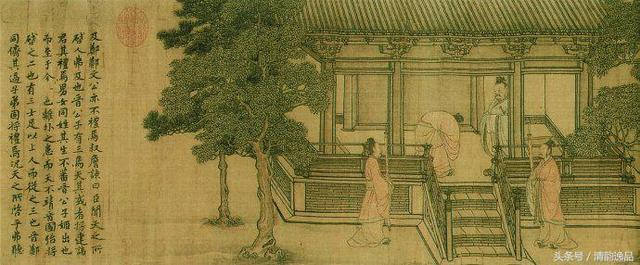booth: (280, 2, 640, 258)
man: (526, 135, 585, 251), (346, 136, 401, 249), (482, 74, 518, 177), (416, 106, 467, 178)
tree: (145, 1, 326, 261), (568, 1, 640, 161)
